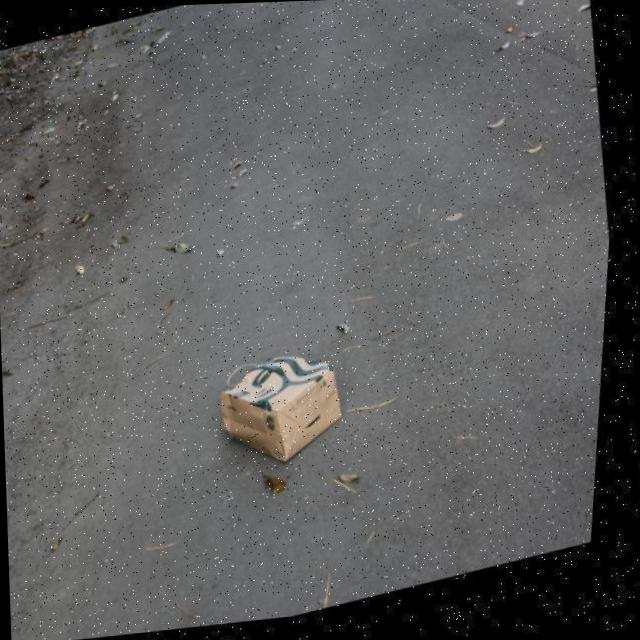KertasBekas: (216, 352, 344, 464)
